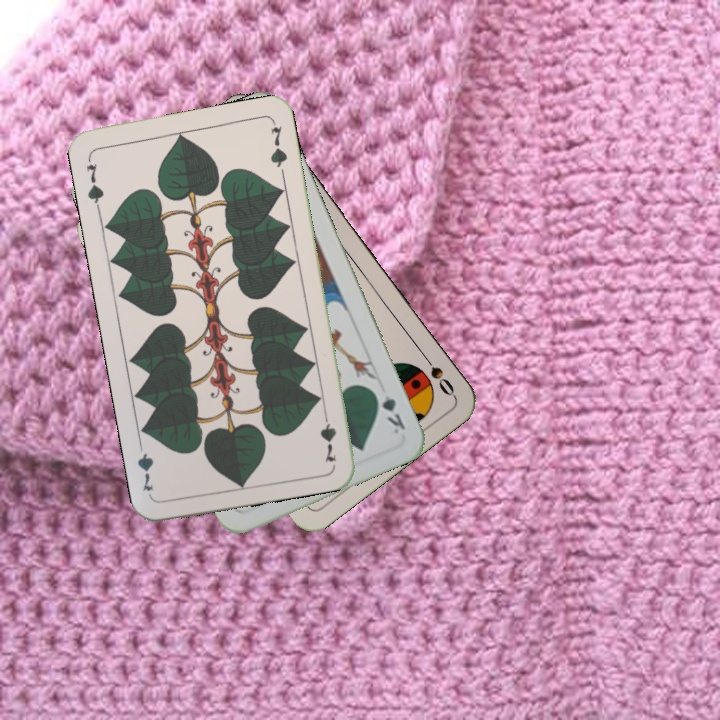G7: (82, 153, 106, 212), (316, 405, 339, 465)
GK: (369, 385, 408, 437)
SO: (416, 347, 458, 399)
